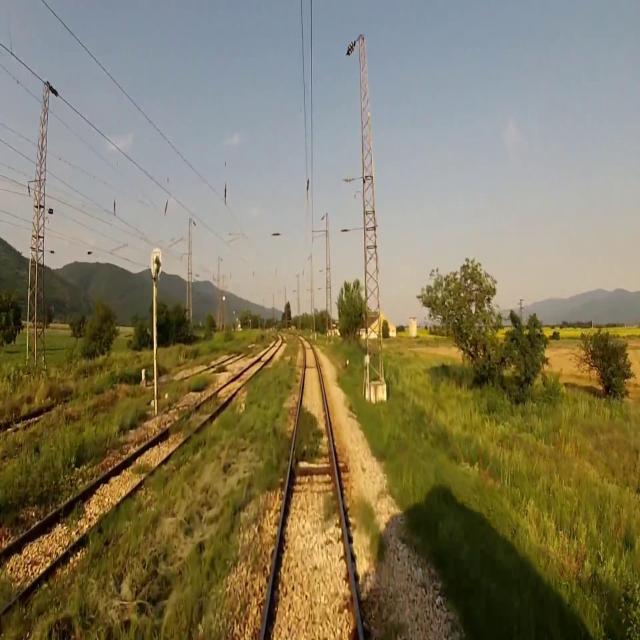rail-track: (0, 336, 280, 609), (264, 340, 358, 639)
